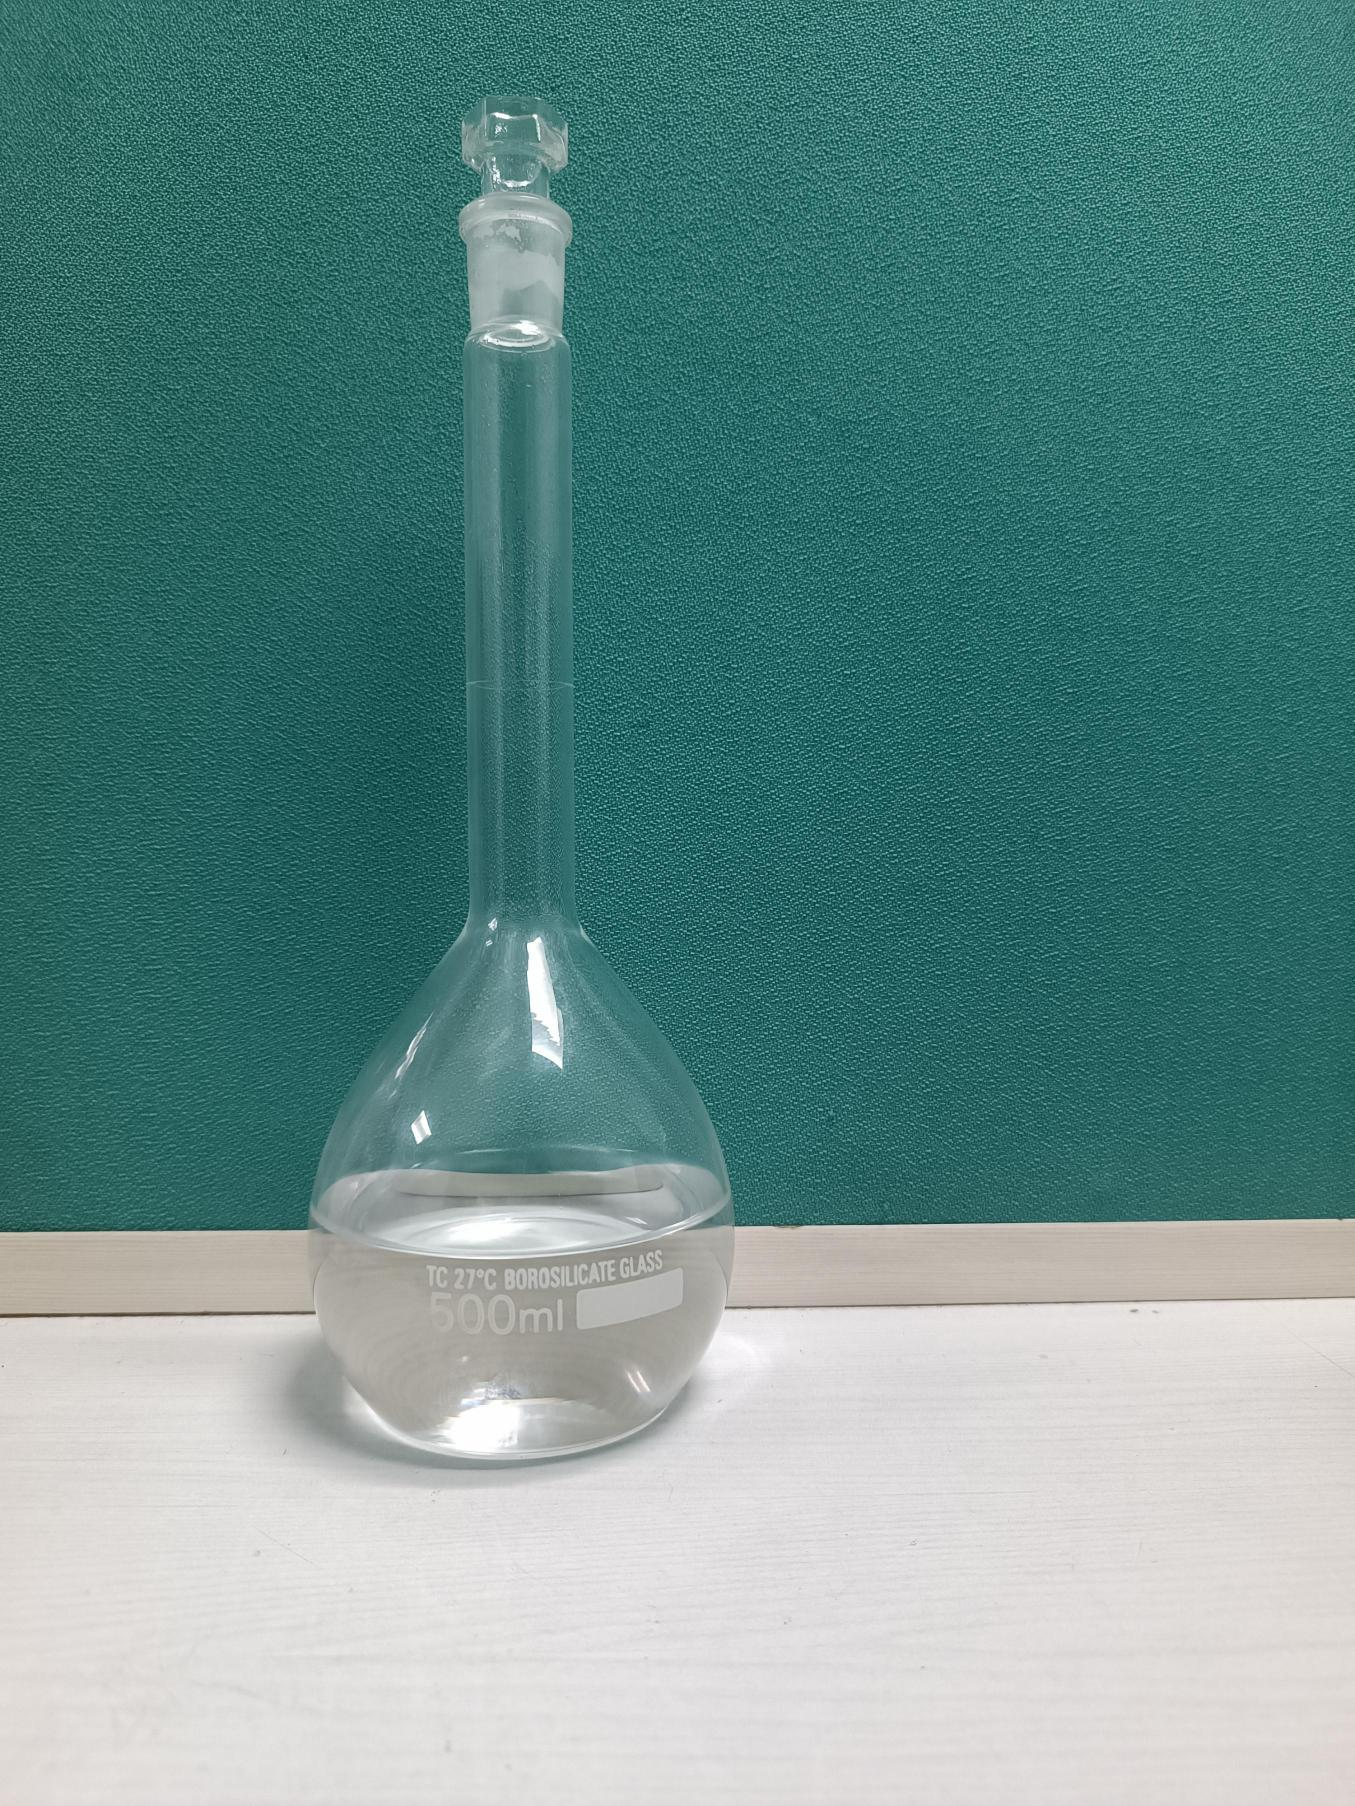Volumetric flask: (309, 88, 739, 1453)
